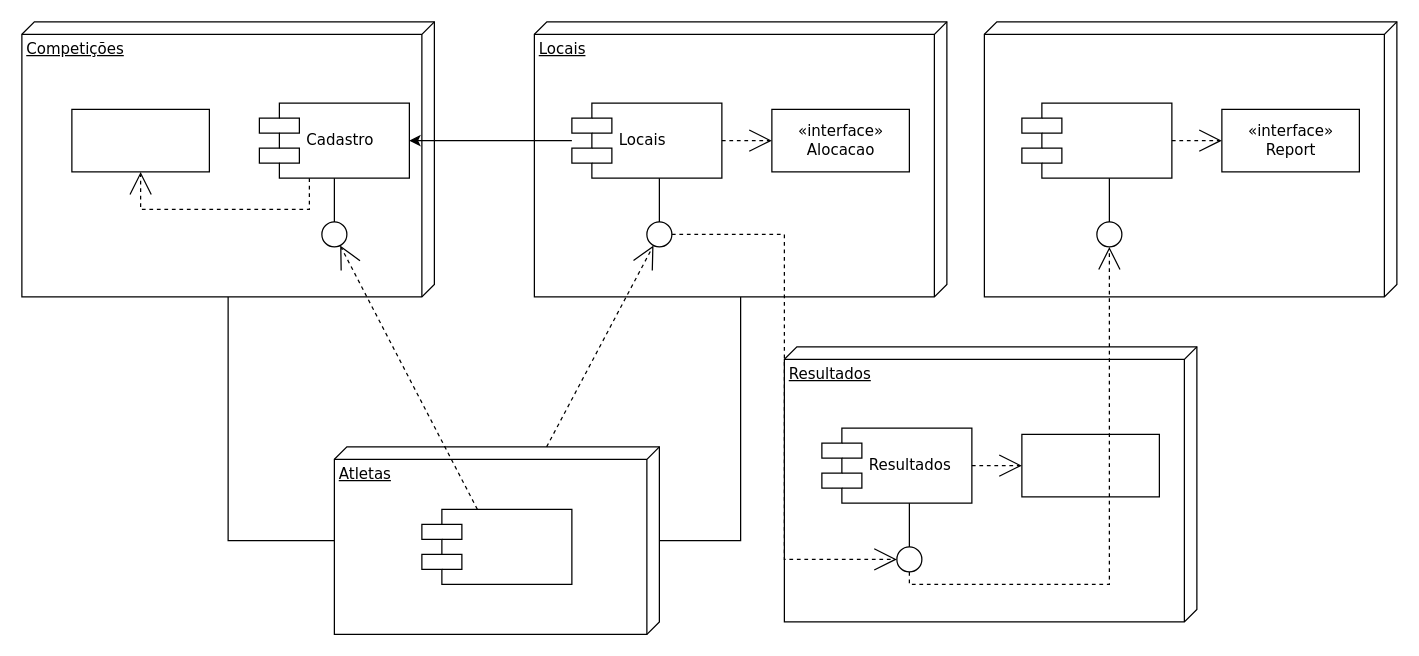
This 1419x656 diagram has some shape labels left out. Each missing label, with the box of its shape:
Desempenho: (1021, 102, 1172, 178)
Inscrição: (421, 508, 572, 584)
Relatórios: (983, 21, 1397, 297)
«interface» Listagem: (71, 108, 209, 172)
«interface» Registro: (1021, 433, 1159, 497)
